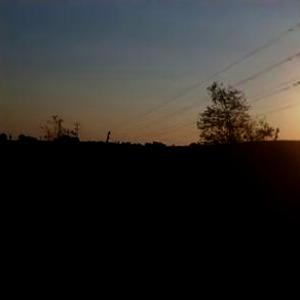follow: (153, 168, 210, 299)
